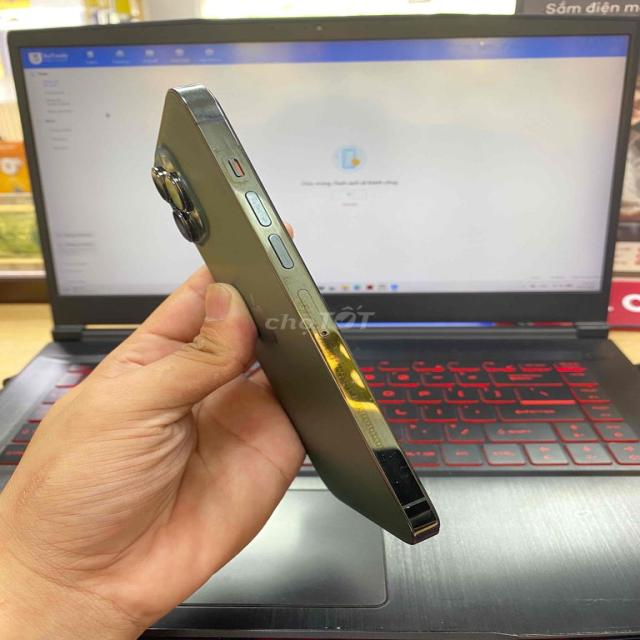scratch: (284, 275, 389, 450), (188, 91, 243, 148), (382, 453, 422, 497)
